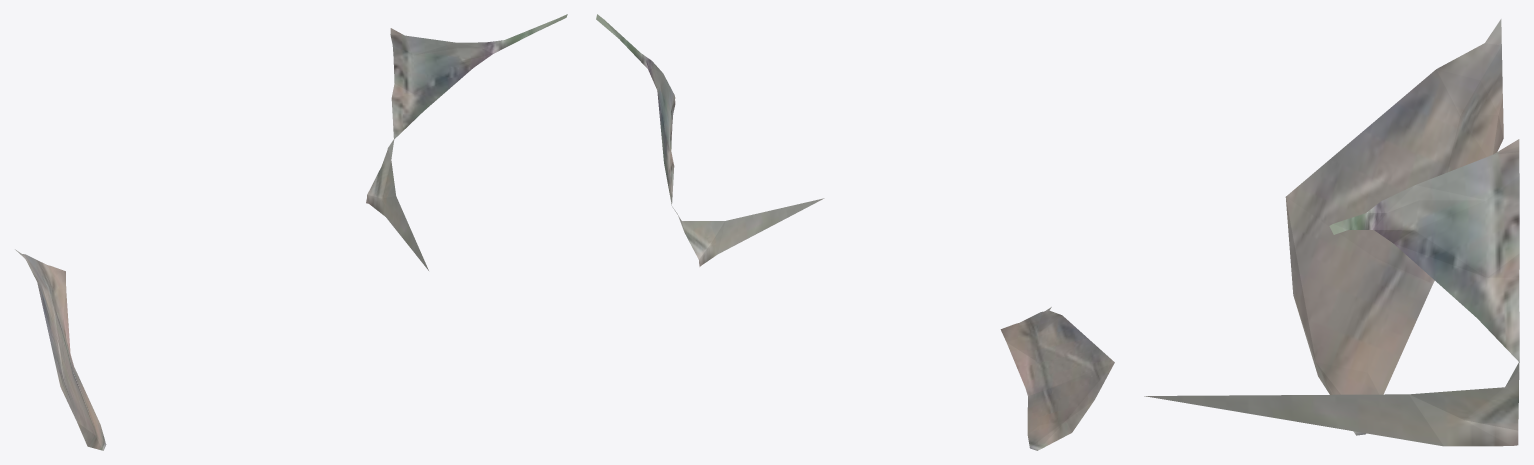
The model's file is Tile_+012_+009_L20_000003300.glb.
The picture shows the model from 3 angles, left to right: view 1: azimuth 30°, elevation 25°; view 2: azimuth 150°, elevation 25°; view 3: azimuth 270°, elevation 25°; orthographic projection. The views are drawn at different scales.
Visible parts, largest first — view 1: rtc; view 2: rtc; view 3: rtc.
Boxes of the visible parts, x1,y1,x2,y2 form: rtc: (15,14,567,450); rtc: (596,14,1114,450); rtc: (1144,19,1519,446).
Size of the model in its own units: 53.52 by 32.58 by 17.2.
1 material, 1 textured.
